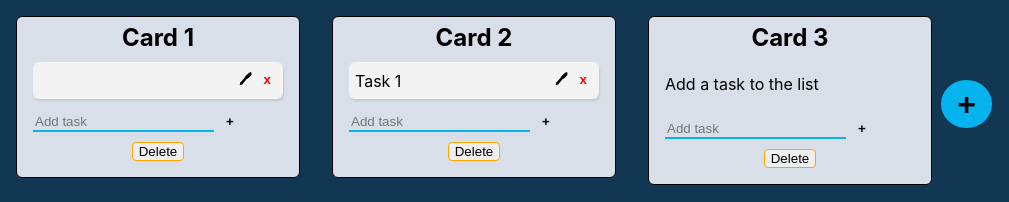
Test: CardSlice › should delete the card
Click the button with test id "delete-card-1" at (158, 152), box 132,142 -> 184,161
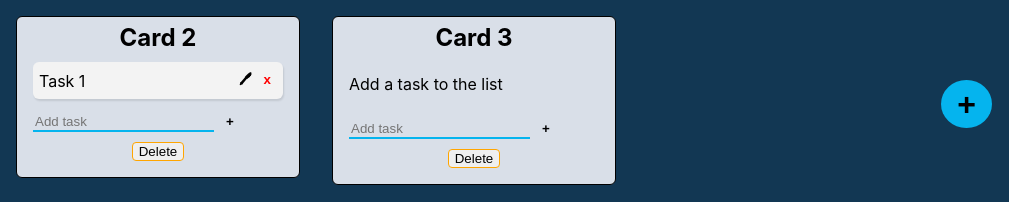
Check: the element with test id "card-1" is gone
